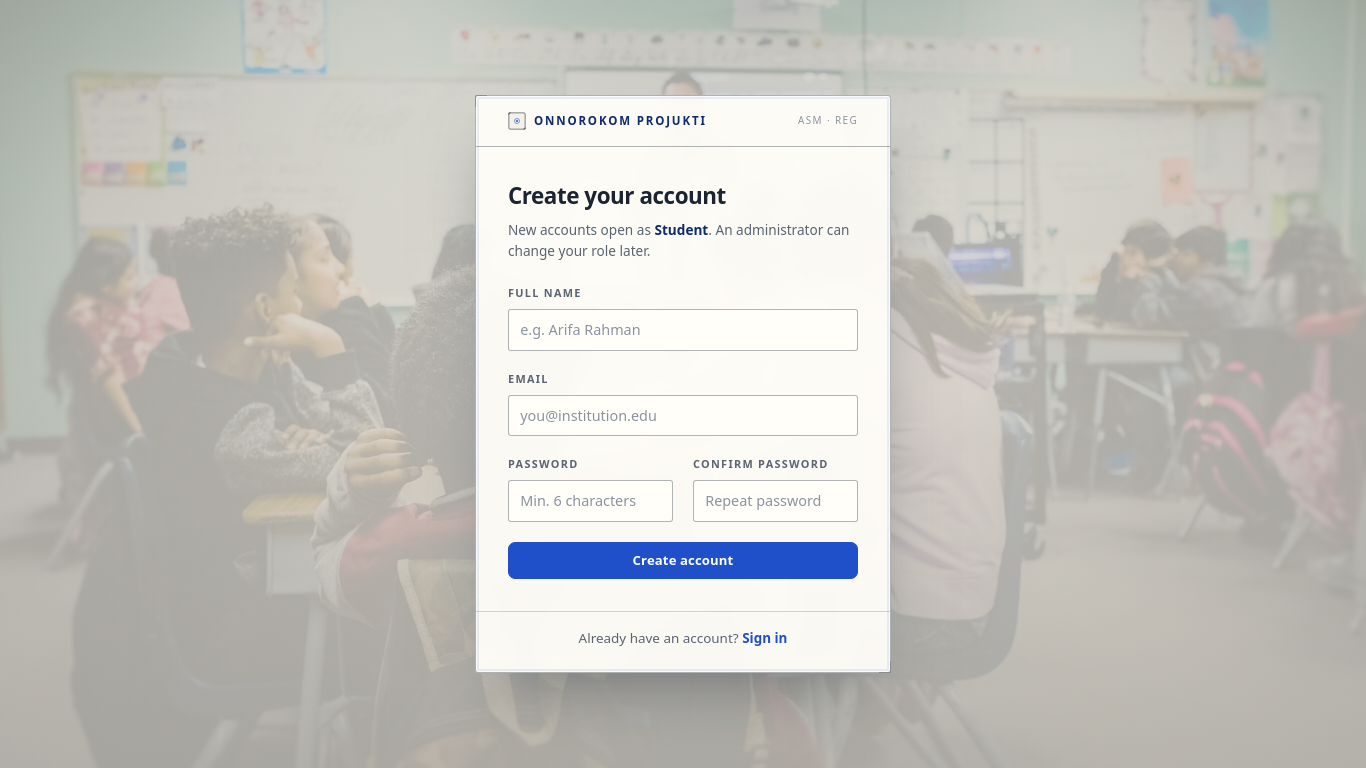
it: RegisterPage › shows validation errors for empty required fields
The width and height of the screenshot is (1366, 768).
Click the button "Create account" at (683, 560), box [508,542,858,579]
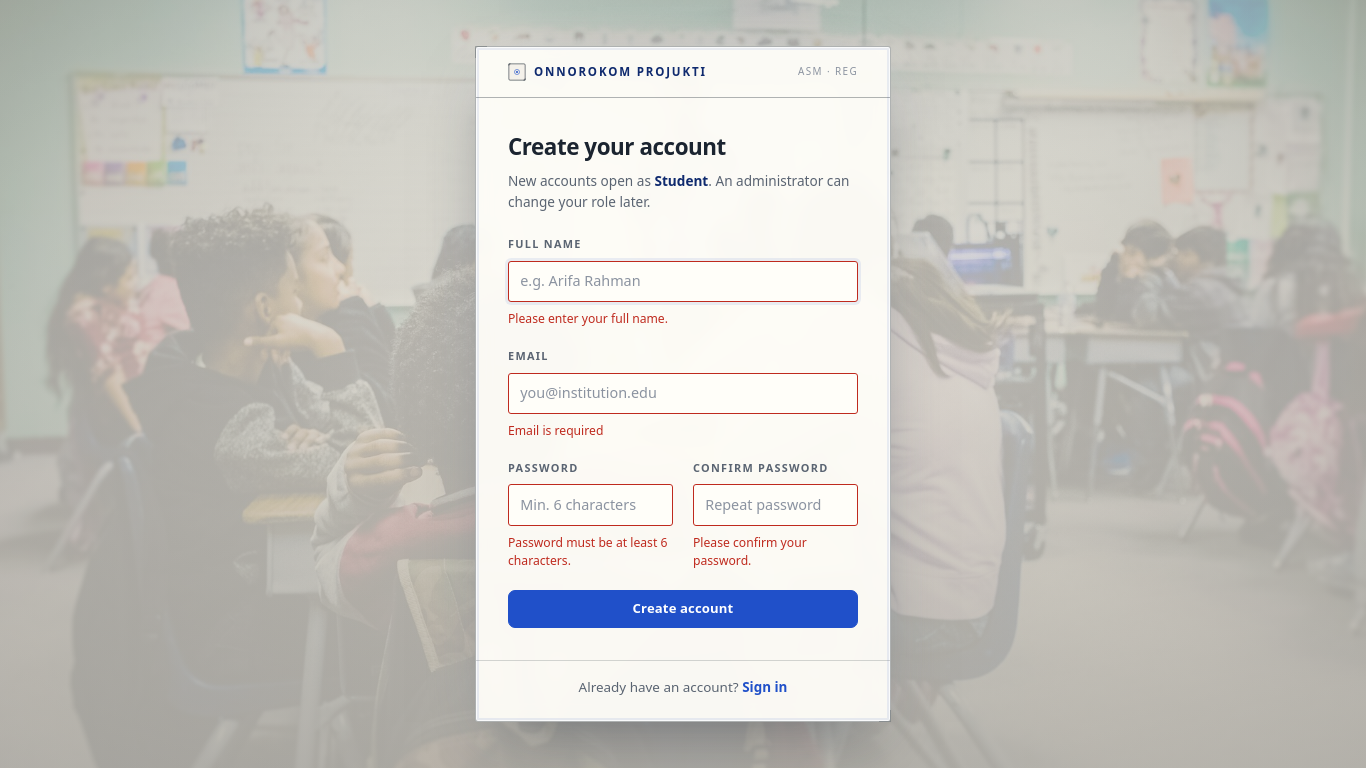
Check: the text "Please enter your full name." is shown, box [508,310,668,327]
Check: the text "Email is required" is shown, box [508,422,603,439]
Check: the text "Please confirm your password." is shown, box [693,534,807,569]
